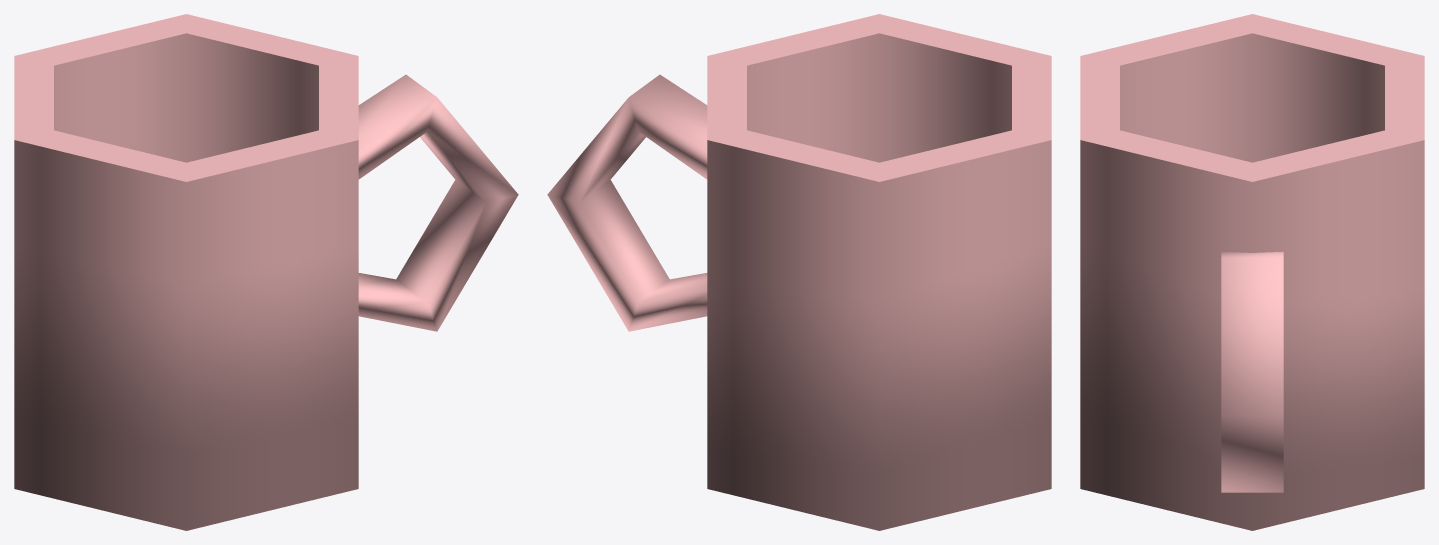
The model's file is tea_cup.fbx.
3 views of the same model, side by side, from view 1: azimuth 30°, elevation 25°; view 2: azimuth 150°, elevation 25°; view 3: azimuth 270°, elevation 25° (orthographic).
Parts seen in each view (by area): view 1: tea_cup; view 2: tea_cup; view 3: tea_cup.
Boxes of the visible parts, box(x1,y1,x2,y2) form: tea_cup: box(14, 14, 518, 530); tea_cup: box(547, 14, 1051, 530); tea_cup: box(1080, 14, 1424, 530).
Size of the model in its own units: 2.84 by 1.94 by 1.73.
1 material, 1 textured.
